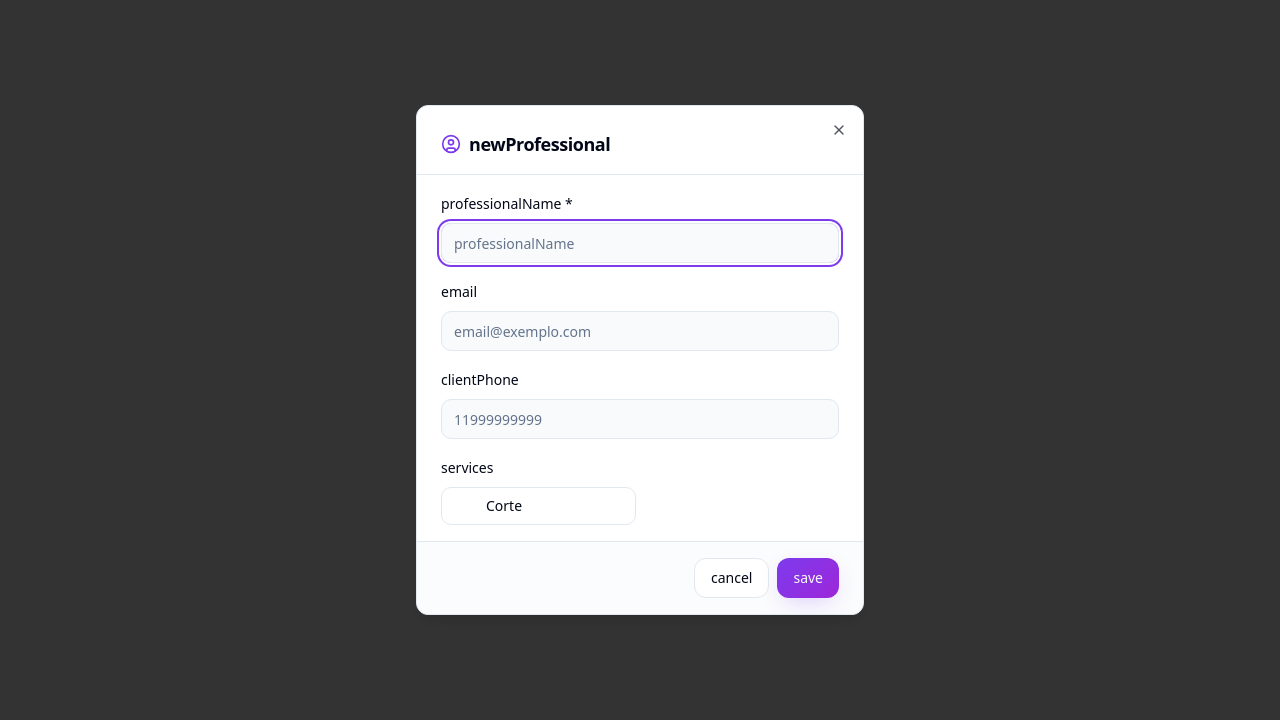
it: ProfessionalFormDialog › shows validation errors when data is invalid
Click the button "save" at (808, 578), box [777,558,839,598]
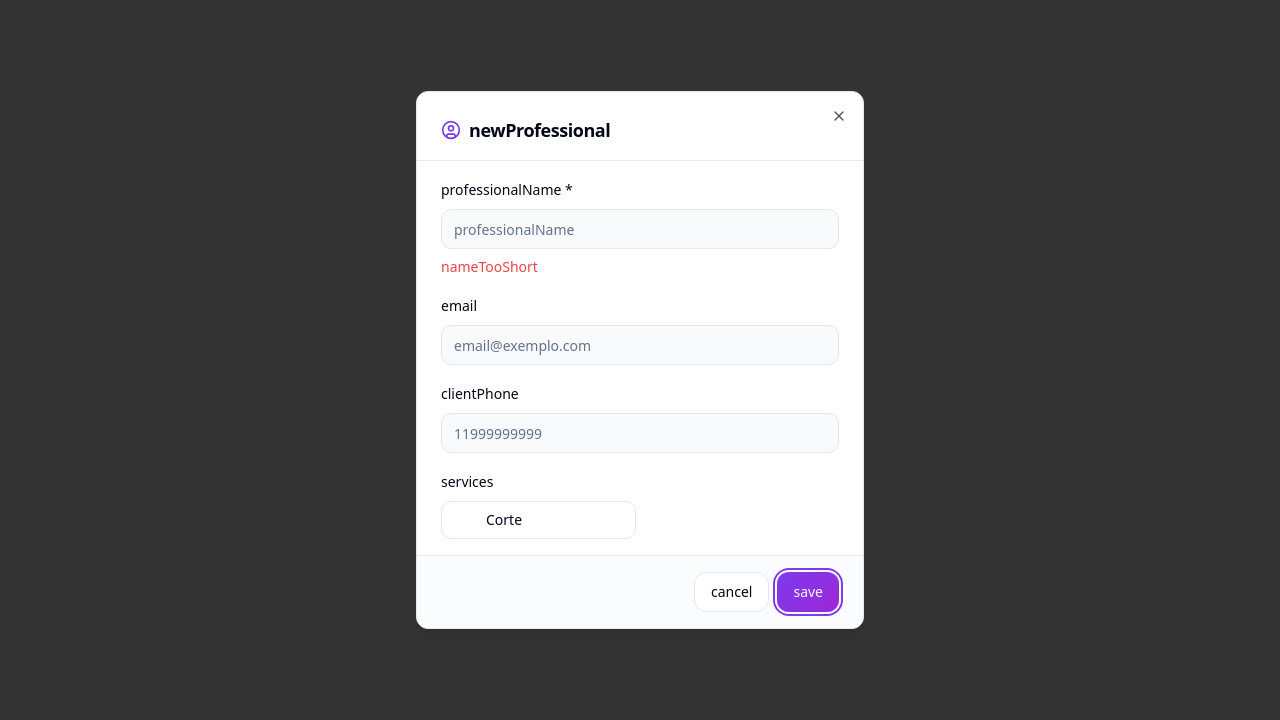
Check: the text "nameTooShort" is shown, box [441,257,538,276]
